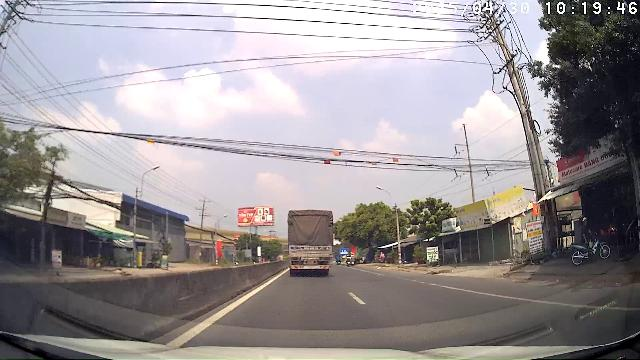420-bat-dau-khu-dong-dan-cu: (340, 248, 349, 254)
